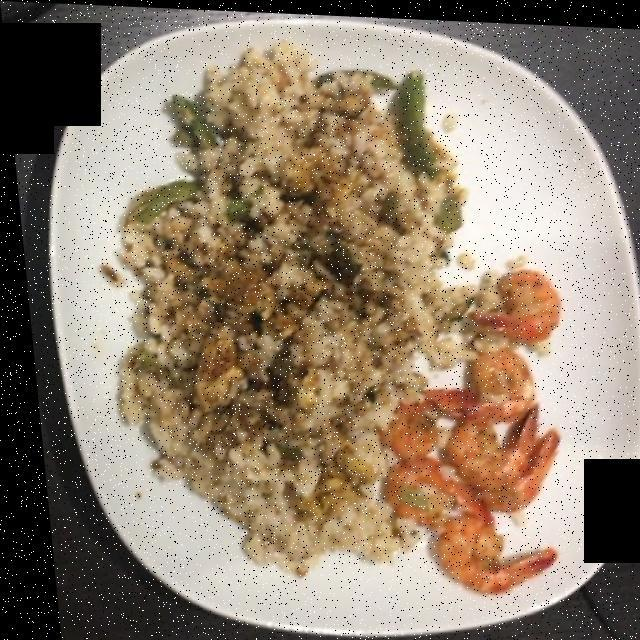rice: (107, 71, 463, 558)
shrimp: (375, 265, 550, 581)
